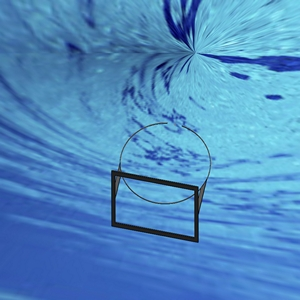circle: (108, 119, 212, 243)
